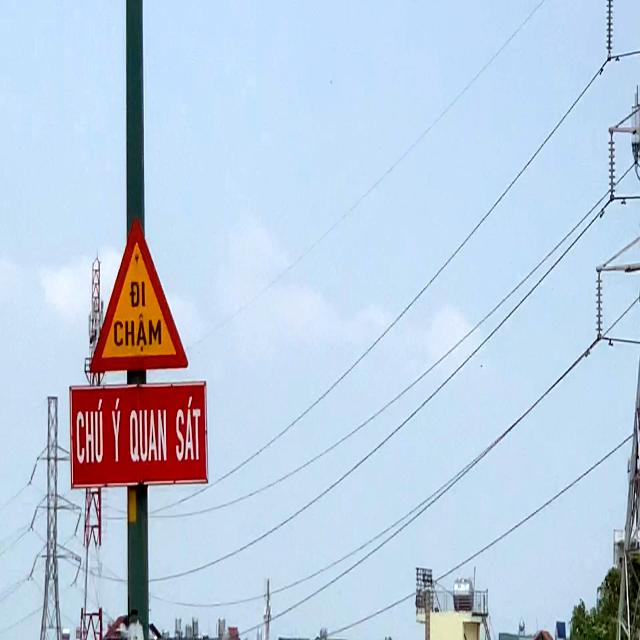W.245a: (88, 216, 190, 376)
